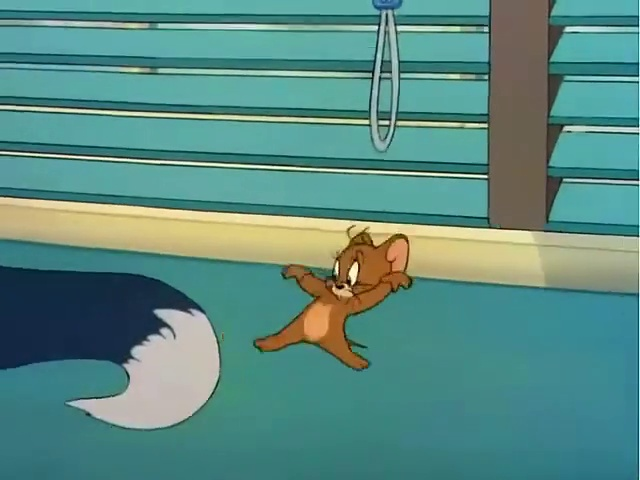jerry: (239, 208, 461, 379)
